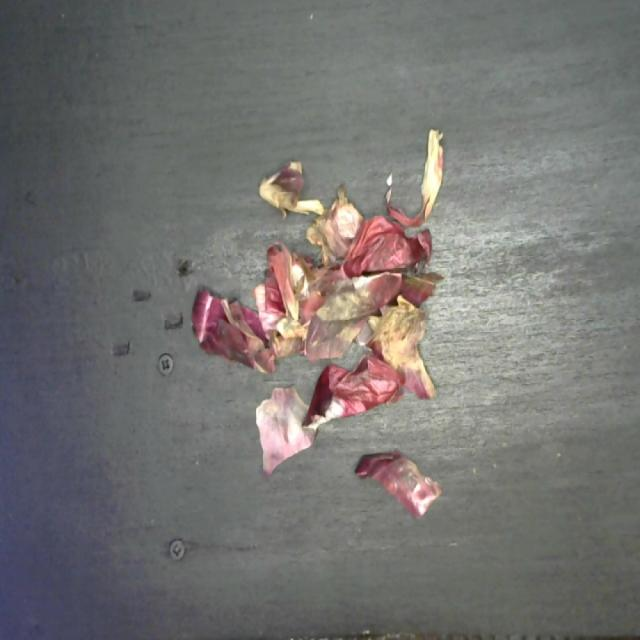biodegradable: (188, 123, 450, 527)
